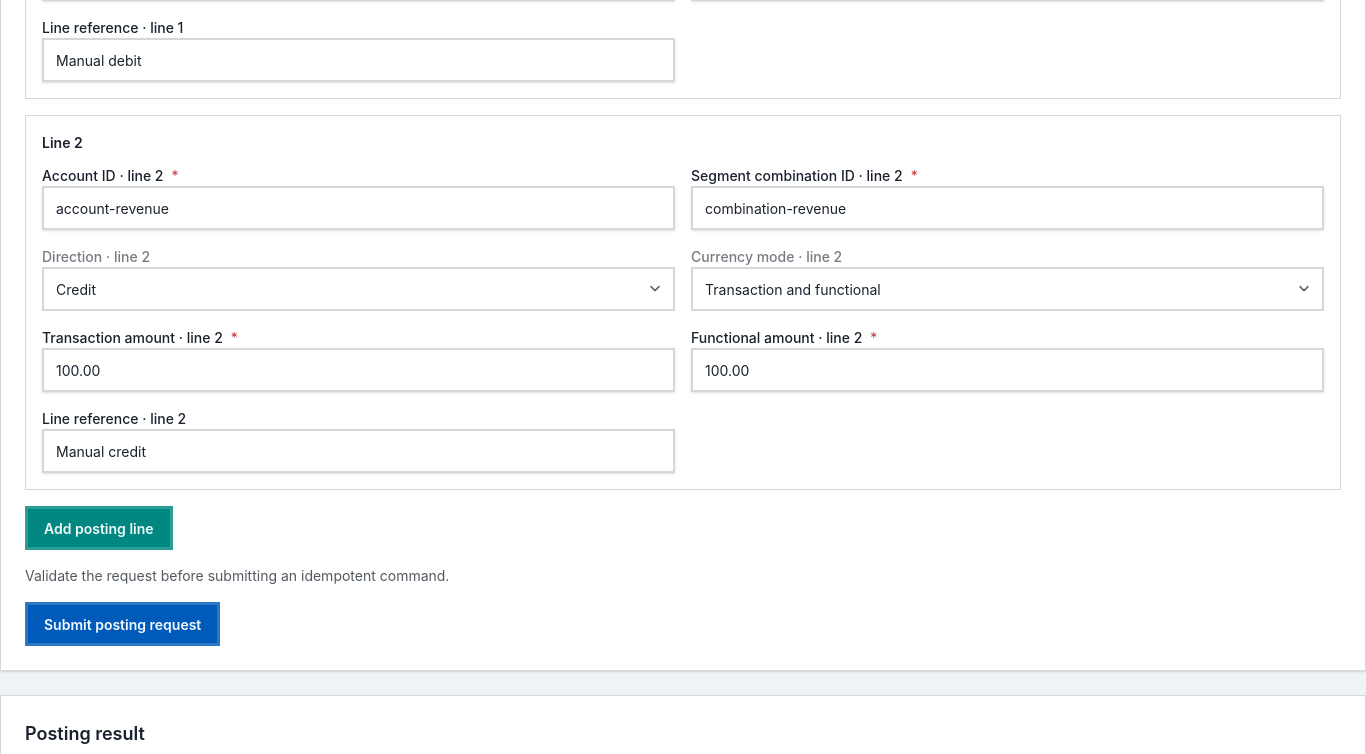
Test: GL posting workbench › blocks unbalanced exact-decimal lines before sending a command
The width and height of the screenshot is (1366, 754).
(page scrolled)
Replace the text in the field labelled "Functional amount · line 2 *" with "99.00": (1008, 370) [691,348,1324,392]
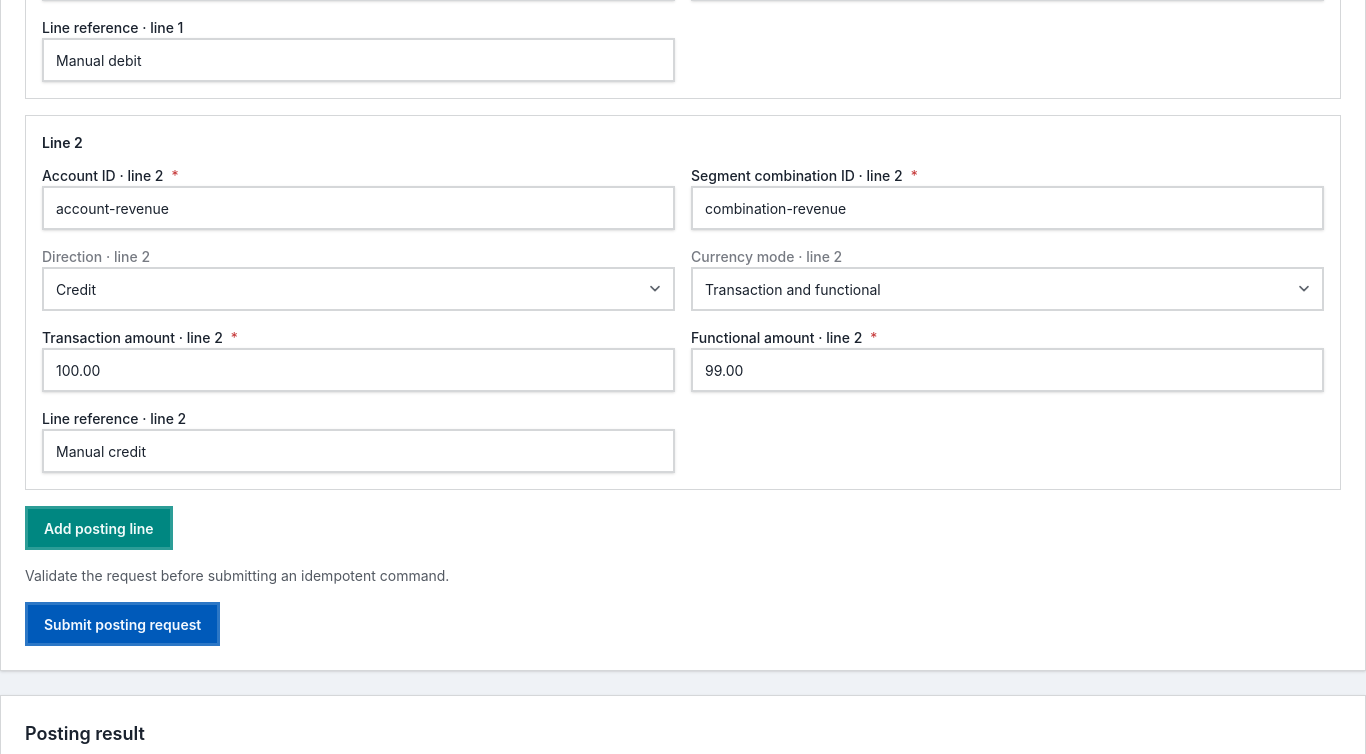
Click the button "Submit posting request": (123, 624) [25,602,220,646]
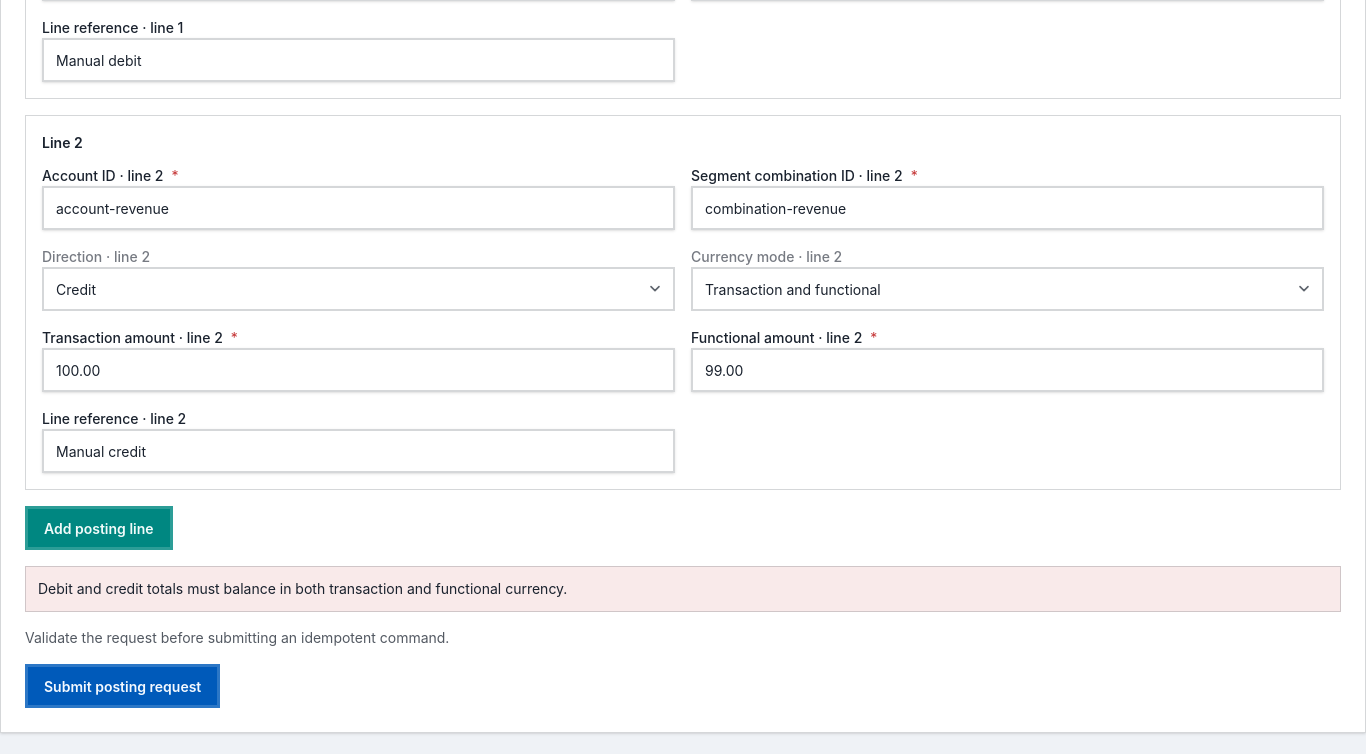
Check: the 1st message shows "Debit and credit totals must balance", box [38,580,567,597]
